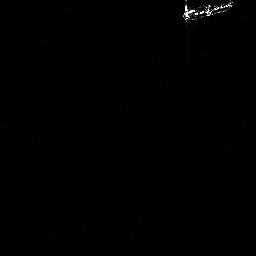ship: (179, 1, 237, 25)
